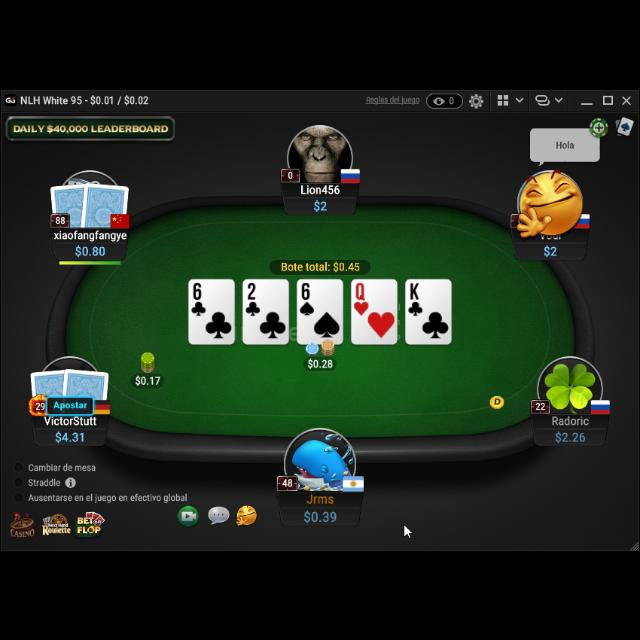2c: (244, 278, 262, 316)
6c: (190, 280, 208, 316)
6s: (298, 279, 316, 315)
Kc: (408, 278, 424, 316)
Qh: (352, 280, 370, 314)
bet_text: (306, 354, 334, 366), (134, 372, 162, 383)
card_back: (80, 177, 130, 227), (60, 364, 110, 411), (48, 178, 92, 226), (30, 364, 70, 412)
dealer: (488, 390, 506, 408)
pot_text: (280, 258, 362, 270)
stack_text: (302, 504, 338, 522), (74, 240, 106, 256), (554, 426, 586, 440), (56, 426, 84, 440), (312, 195, 330, 209), (543, 240, 557, 252)
